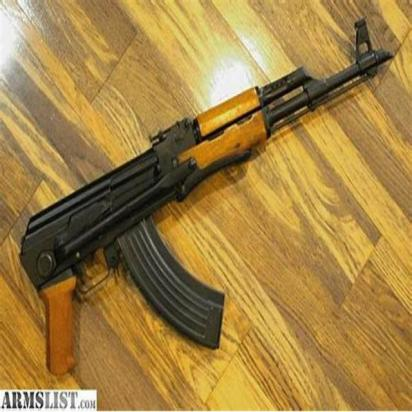Gun: (20, 23, 392, 376)
